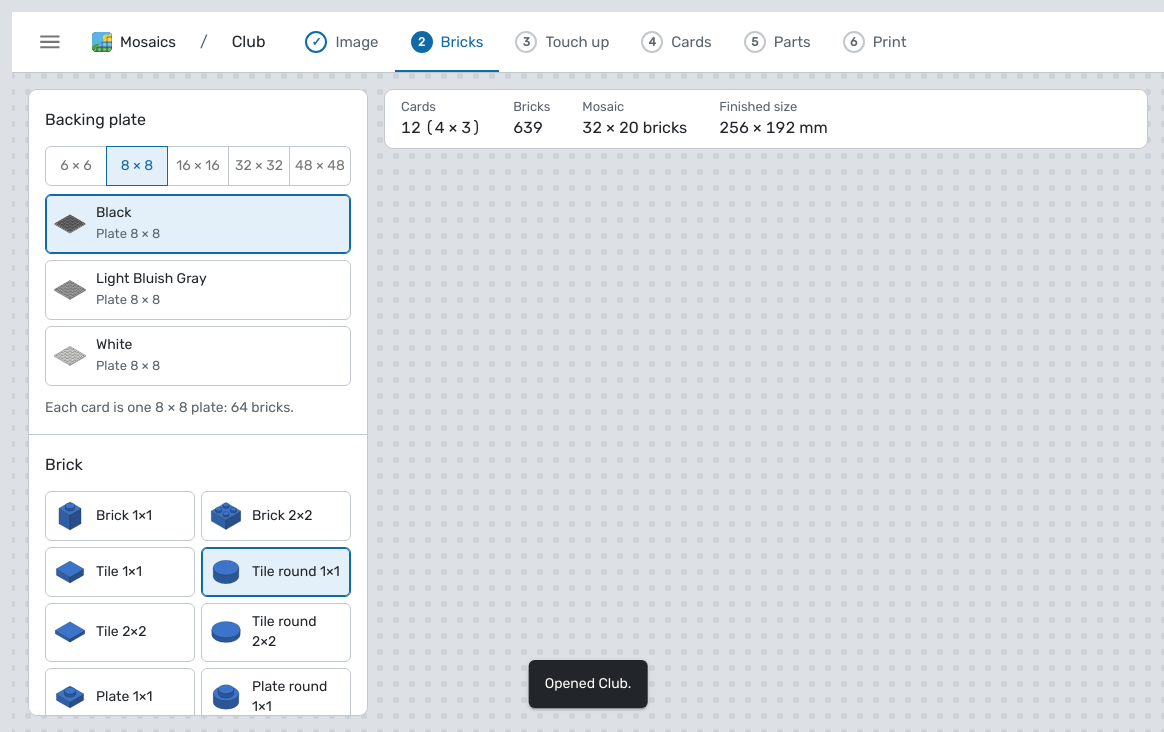
Test: Project menu › opens a project: settings and image, ready on the bricks step
Earlier steps of the test are not shown.
Expected: the text "Opened Club." is shown, [545,674,631,694]
Click the tab "4 Cards" at (676, 42), box [625,12,728,72]
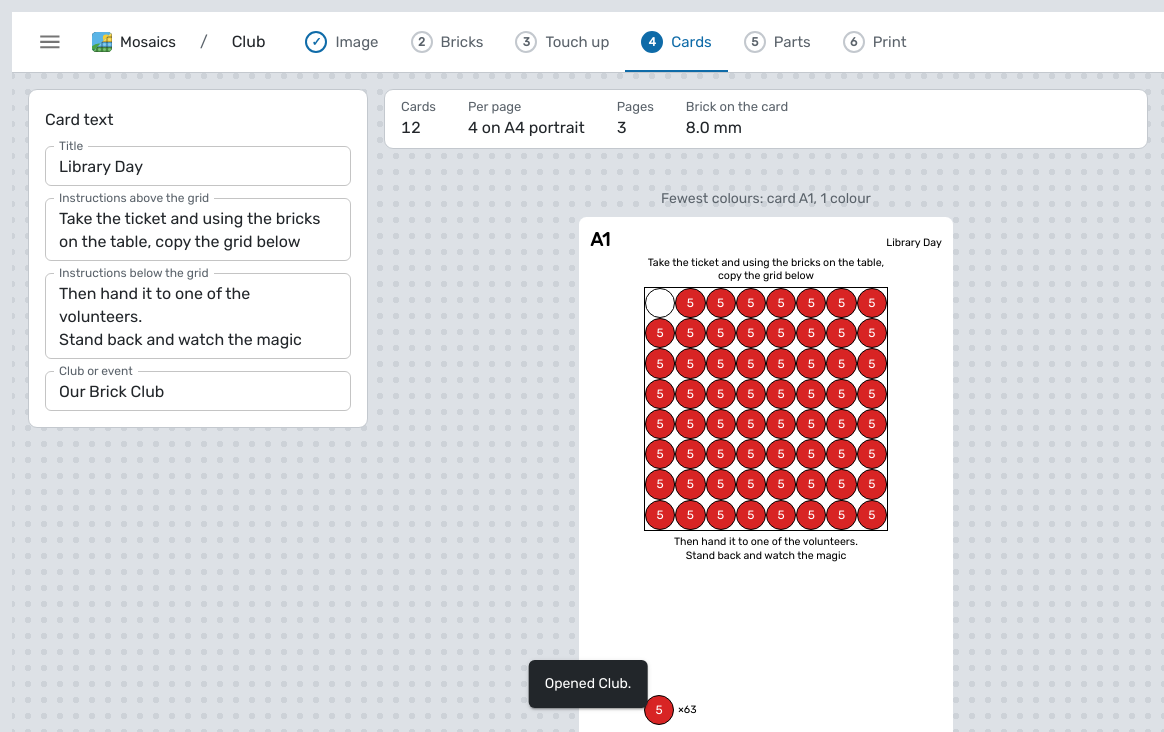
Expected: the field labelled "Title" holds "Library Day", [45,146,351,186]
